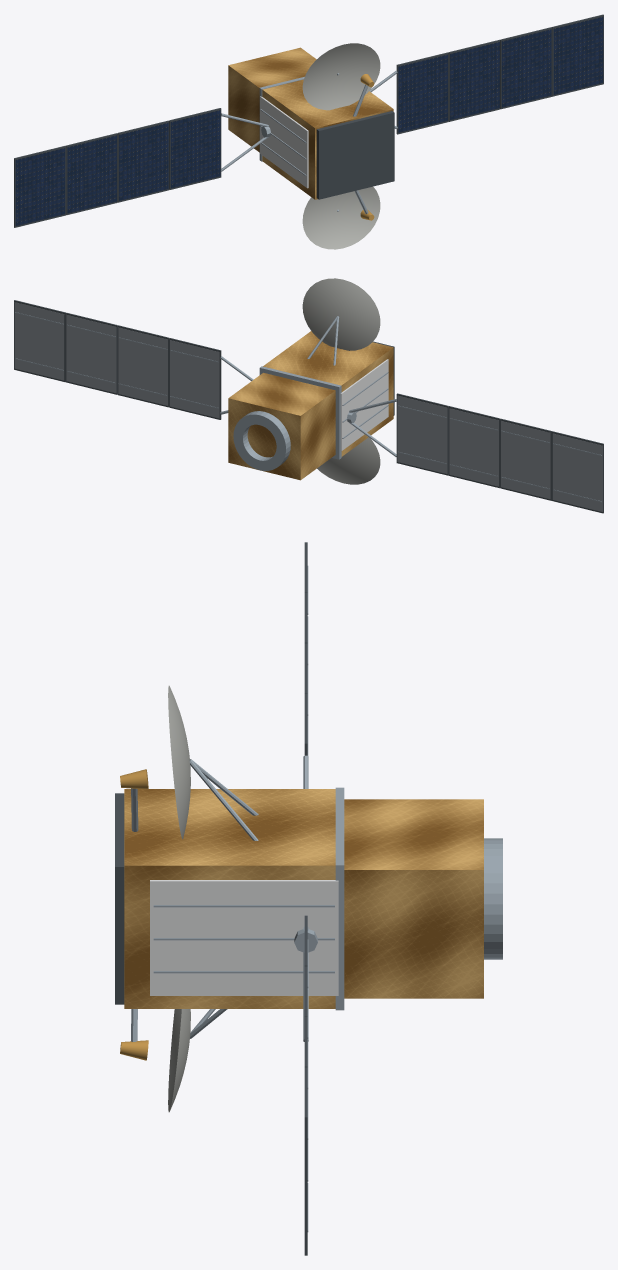
Rendered from ref-ekspress-1000htb-39612.glb.
The picture shows the model from 3 angles, top to bottom: view 1: azimuth 30°, elevation 25°; view 2: azimuth 150°, elevation 25°; view 3: azimuth 270°, elevation 25°; orthographic projection. The views are drawn at different scales.
Visible parts, largest first — view 1: Solar cell panel (×8), Communications reflector (×2), Earth-facing deck, Service module, Solar panel frame (×8), Payload module, Radiator face; view 2: Rear array substrate (×8), Service module, Communications reflector (×2), Payload module, Solar panel frame (×8), Radiator face, Launch adapter ring, Module interface; view 3: Service module, Payload module, Radiator face, Communications reflector (×2), Launch adapter ring, Earth-facing deck, Module interface.
Boxes of the visible parts, left/top/right/bottom form: Solar cell panel (×8): left=15, top=16, right=603, bottom=226; Communications reflector (×2): left=302, top=43, right=380, bottom=249; Earth-facing deck: left=316, top=111, right=394, bottom=199; Service module: left=228, top=47, right=316, bottom=152; Solar panel frame (×8): left=14, top=14, right=603, bottom=227; Payload module: left=262, top=79, right=393, bottom=199; Radiator face: left=260, top=96, right=308, bottom=188; Rear array substrate (×8): left=14, top=302, right=602, bottom=511; Service module: left=228, top=372, right=335, bottom=480; Communications reflector (×2): left=302, top=278, right=380, bottom=484; Payload module: left=263, top=331, right=393, bottom=456; Solar panel frame (×8): left=14, top=300, right=603, bottom=513; Radiator face: left=340, top=359, right=388, bottom=451; Launch adapter ring: left=233, top=411, right=290, bottom=470; Module interface: left=259, top=366, right=341, bottom=459; Service module: left=344, top=799, right=483, bottom=998; Payload module: left=124, top=789, right=335, bottom=1008; Radiator face: left=150, top=880, right=338, bottom=995; Communications reflector (×2): left=168, top=685, right=190, bottom=1112; Launch adapter ring: left=484, top=838, right=502, bottom=959; Earth-facing deck: left=115, top=793, right=124, bottom=1004; Module interface: left=335, top=787, right=344, bottom=1010.
Bounding box in the file's own units: 14.99 × 4.95 × 4.27.
8 materials, 2 textured.
